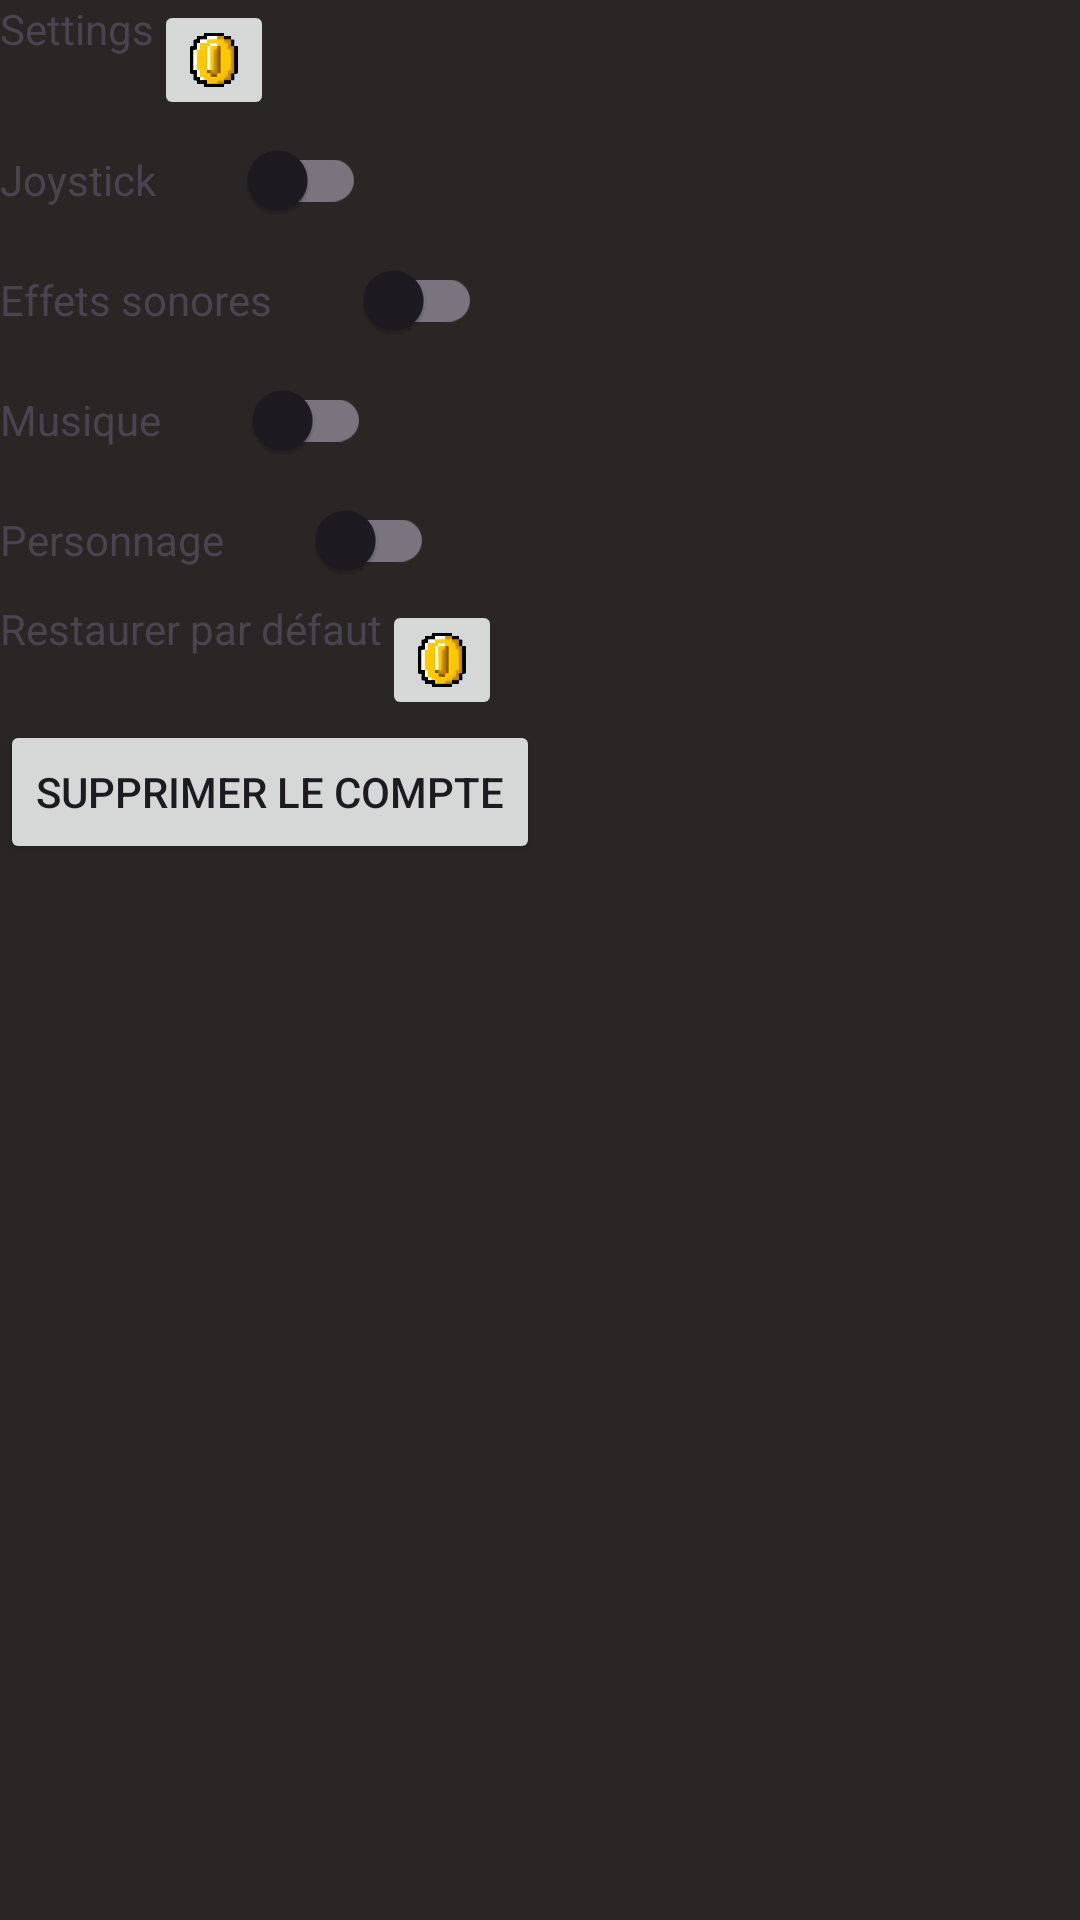

Screen size 1080 × 1920. Icon name, then its box in pixels as (x1,y1,x2,y2):
piece jaune face: (166,18,262,102), (394,618,490,702)
